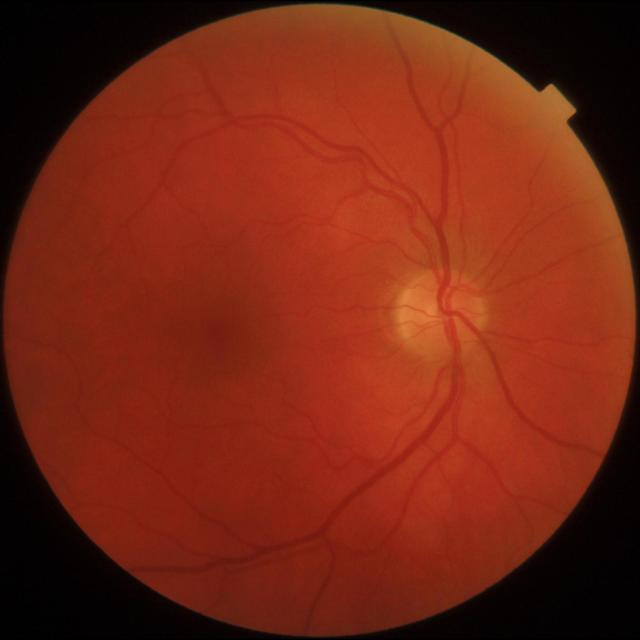OC: (425, 299, 462, 333)
OD: (400, 272, 484, 361)
